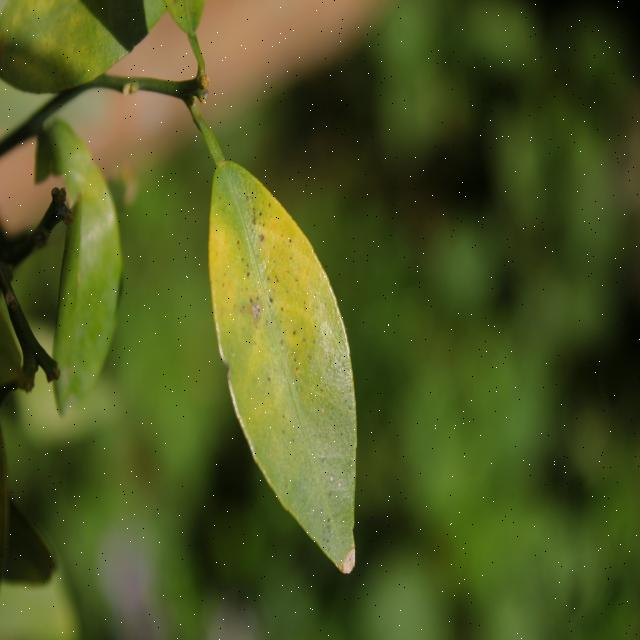blackspot: (203, 164, 359, 554)
